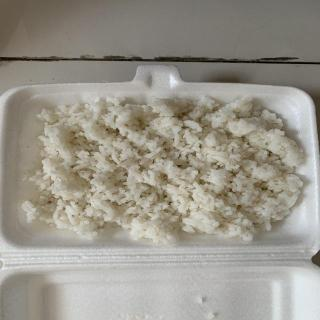Nasi: (24, 101, 306, 247)
